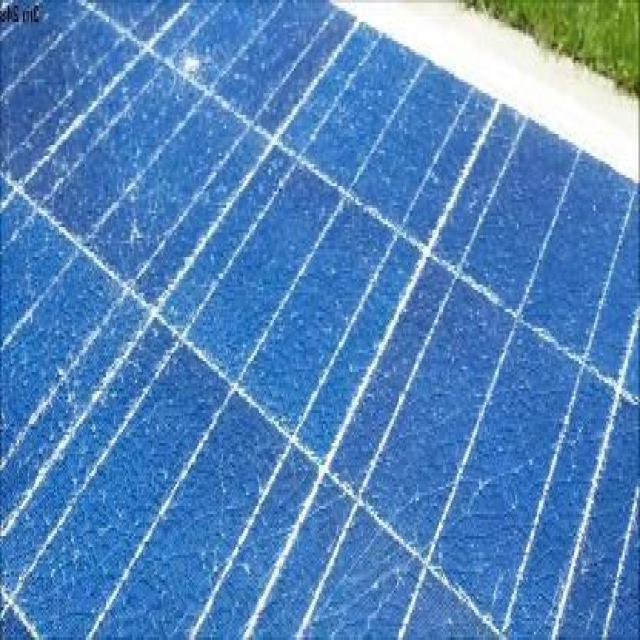cracked: (1, 5, 632, 640)
